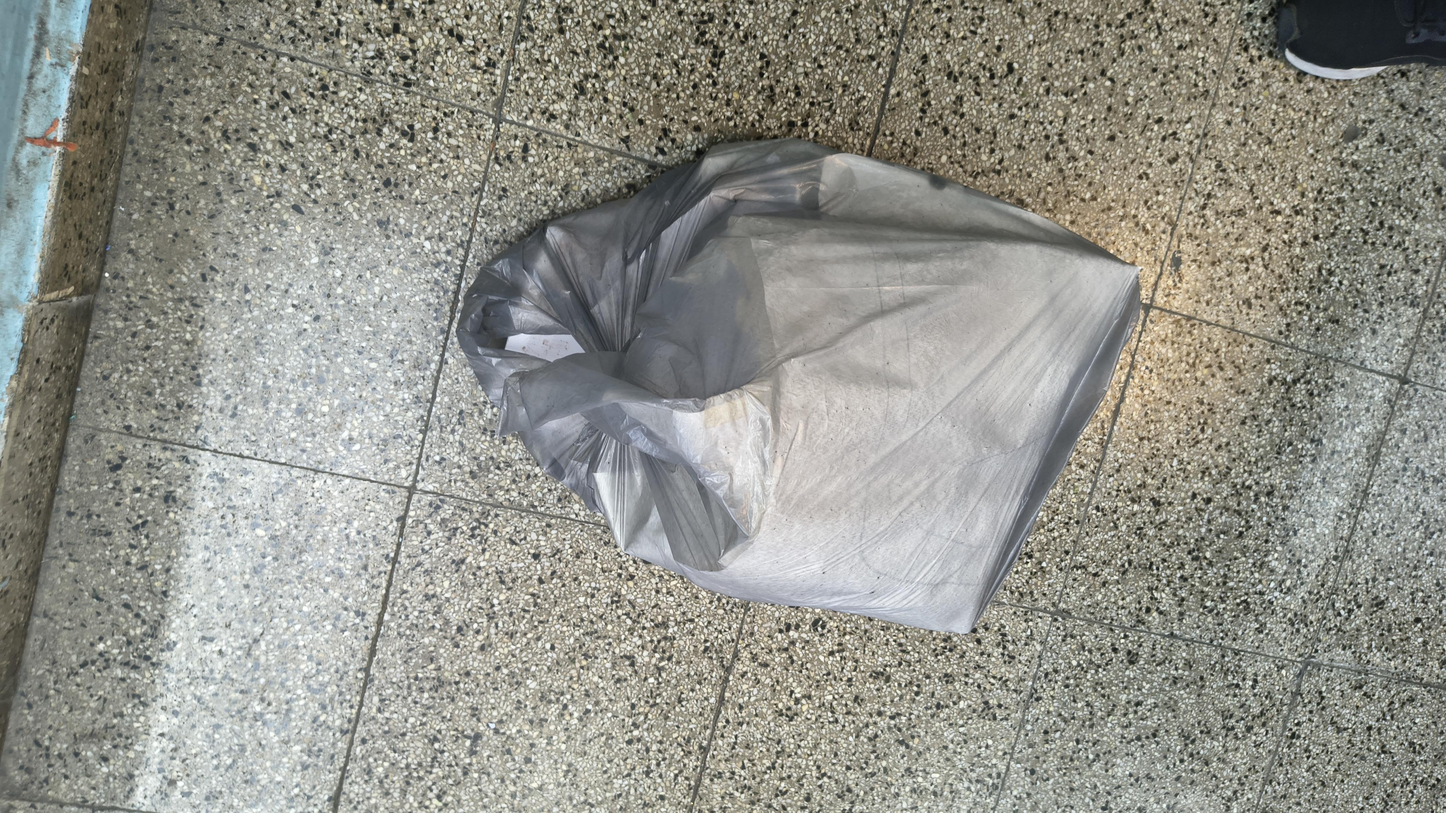Garbage: (276, 216, 1318, 681)
